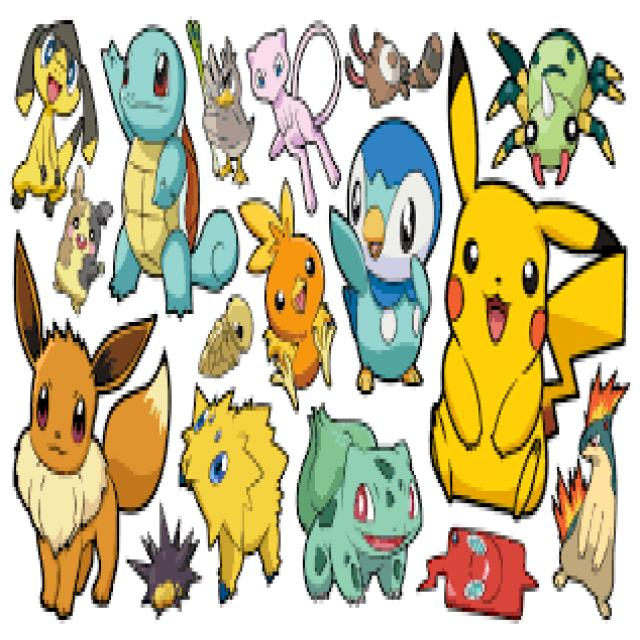Bulbasaur: (302, 434, 422, 599)
Eevee: (15, 326, 120, 611)
Farfetchd: (202, 28, 254, 185)
Kakuna: (198, 292, 255, 376)
Mew: (253, 42, 314, 150)
Pikachu: (441, 173, 554, 513)
Squirtle: (116, 24, 200, 312)
